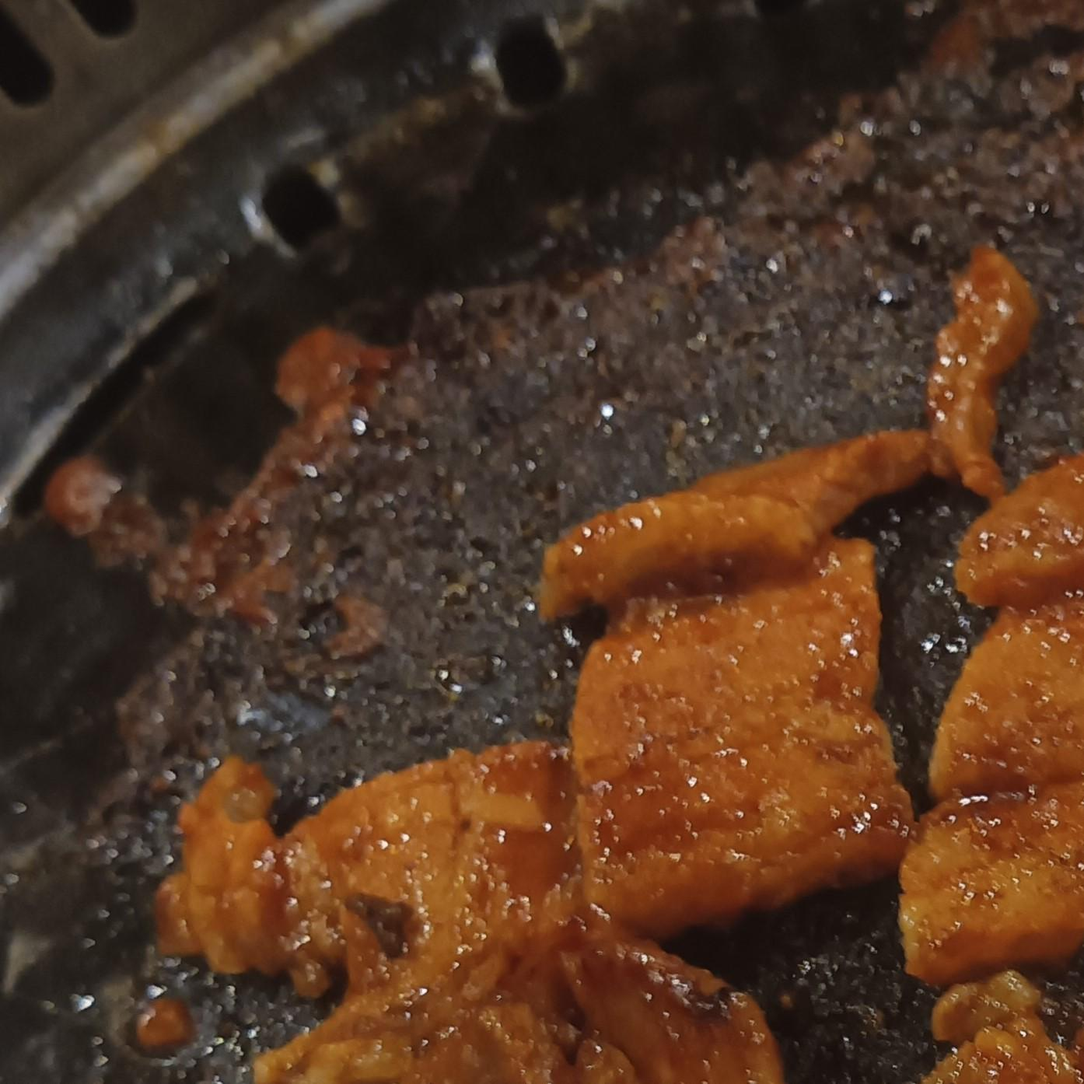Well-Cooked: (158, 741, 783, 1083), (571, 539, 913, 939), (899, 454, 1083, 984), (540, 430, 935, 617), (928, 247, 1038, 498), (923, 970, 1083, 1083)
